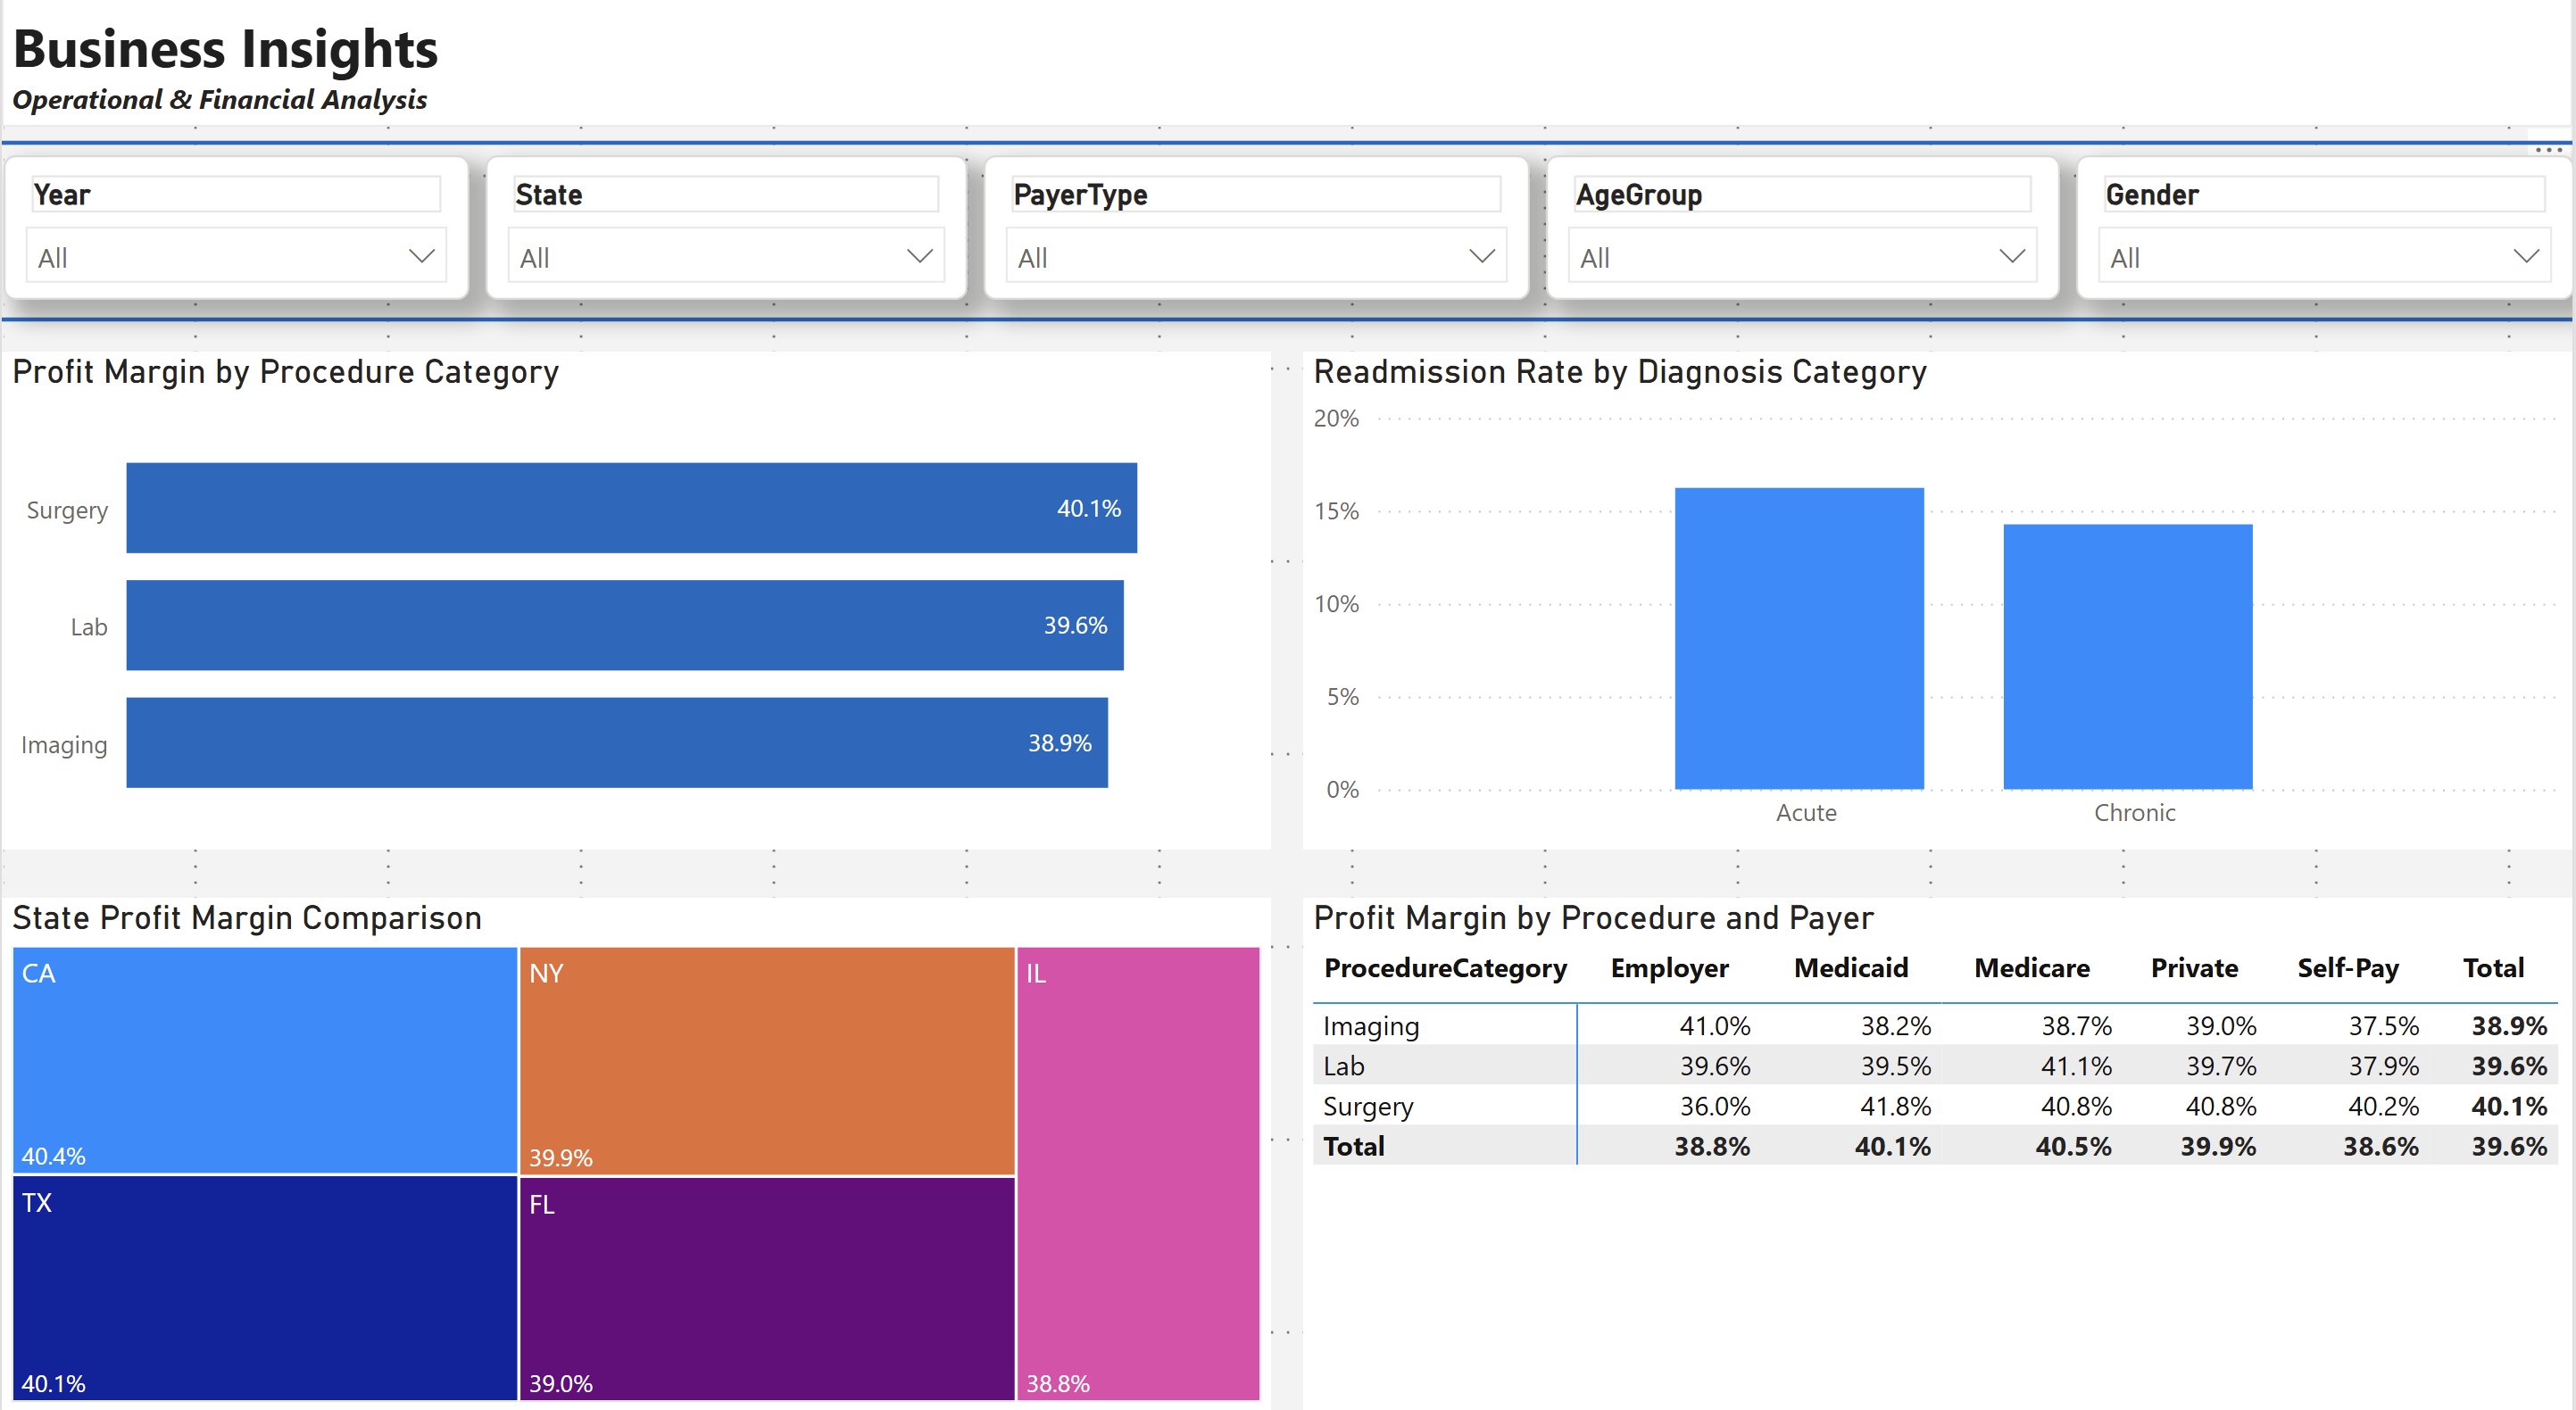

What the dashboard file says about the page in this screenshot:
{"tool":"powerbi","page":{"name":"Business Insights","canvas":[1280,720],"ordinal":2},"visuals":[{"type":"textbox","box":[0,8,424,64],"z":0},{"type":"shape","box":[0,160,1280,16],"z":1000},{"type":"slicer","fields":{"Values":["Calendar Table.Year"]},"box":[0.8,86,232,72],"z":2000},{"type":"slicer","fields":{"Values":["Patient Table.State"]},"box":[240.8,86,240,72],"z":3000},{"type":"slicer","fields":{"Values":["Payer Table.PayerType"]},"box":[488.8,86,272,72],"z":4000},{"type":"slicer","fields":{"Values":["Patient Table.AgeGroup"]},"box":[768.8,86,256,72],"z":5000},{"type":"slicer","fields":{"Values":["Patient Table.Gender"]},"box":[1032.8,86,248,72],"z":6000},{"type":"shape","box":[0,72,1280,16],"z":7000},{"type":"clusteredBarChart","title":"Profit Margin by Procedure Category","fields":{"Category":["Procedure Table.ProcedureCategory"],"Y":["Measures Table.Profit Margin (%)"]},"box":[0,184,632,248],"z":8000},{"type":"columnChart","fields":{"Category":["Diagnosis Table.DiagnosisCategory"],"Y":["Measures Table.Readmission Rate"]},"box":[648,184,632,248],"z":8001},{"type":"treemap","title":"State Profit Margin Comparison","fields":{"Group":["Patient Table.State"],"Values":["Measures Table.Profit Margin (%)"]},"box":[0,456,632,256],"z":8002},{"type":"pivotTable","title":"Profit Margin (%) by Procedure and Payer","fields":{"Rows":["Procedure Table.ProcedureCategory"],"Columns":["Payer Table.PayerType"],"Values":["Measures Table.Profit Margin (%)"]},"box":[648,456,632,256],"z":8003}]}

Visuals, with their boxes in screenshot pixels (x1, y1, x2, y2), scaled from the page's 1280x720 canvas onto the 2576x1410 screenshot:
textbox: 0/16/853/141
shape: 0/313/2575/344
slicer - Calendar Table.Year: 2/169/469/310
slicer - Patient Table.State: 485/169/968/310
slicer - Payer Table.PayerType: 984/169/1531/310
slicer - Patient Table.AgeGroup: 1547/169/2063/310
slicer - Patient Table.Gender: 2079/169/2575/310
shape: 0/141/2575/172
"Profit Margin by Procedure Category" clusteredBarChart: 0/361/1272/846
columnChart - Diagnosis Table.DiagnosisCategory x Measures Table.Readmission Rate: 1304/361/2575/846
"State Profit Margin Comparison" treemap: 0/893/1272/1394
"Profit Margin (%) by Procedure and Payer" pivotTable: 1304/893/2575/1394
